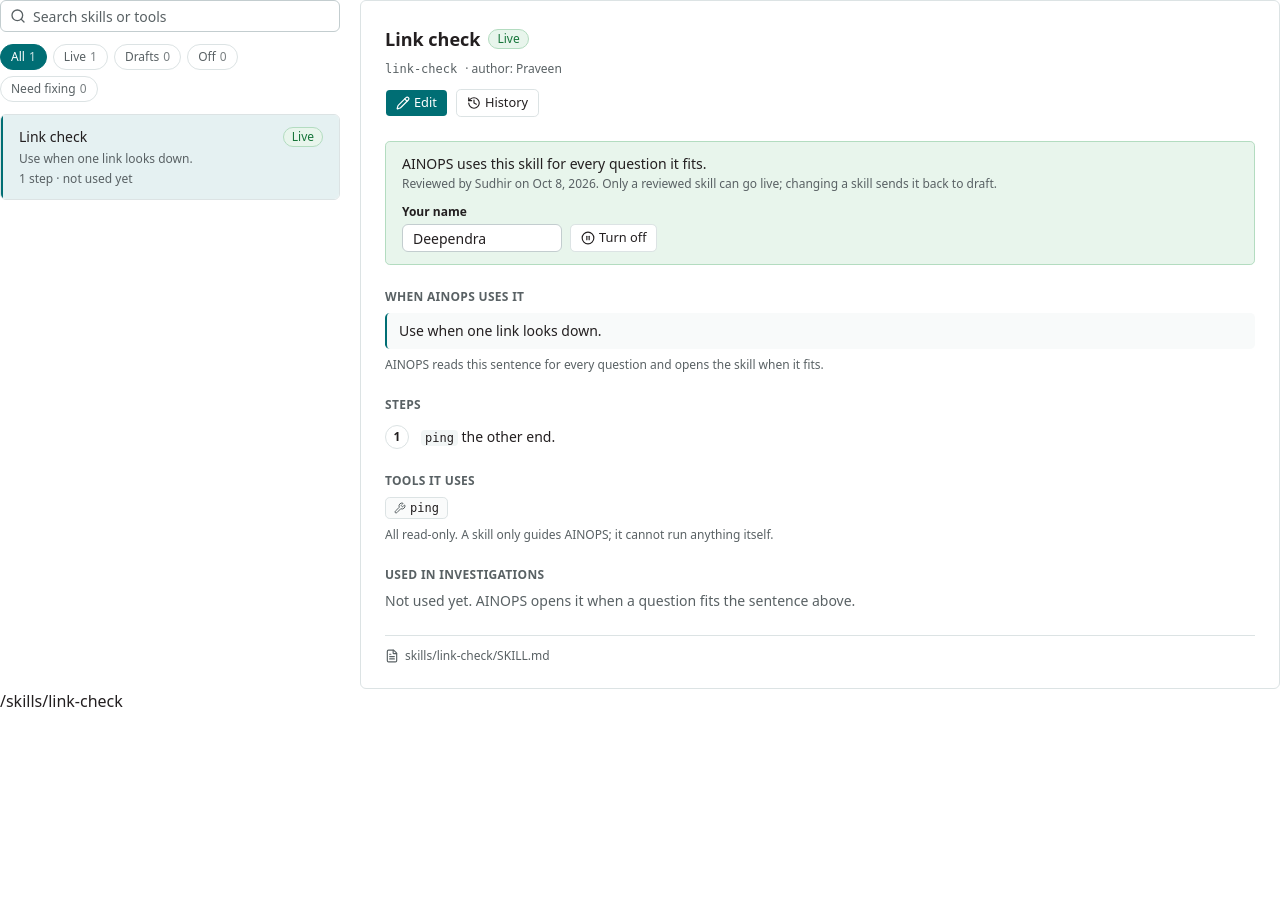
a skill’s status on the Skills page › History can restore an earlier version, saying it becomes a draft
What coordinates should you click on to do the following:
click the button "History"
I would click on:
 (497, 103)
Its box is [456,89,539,117].
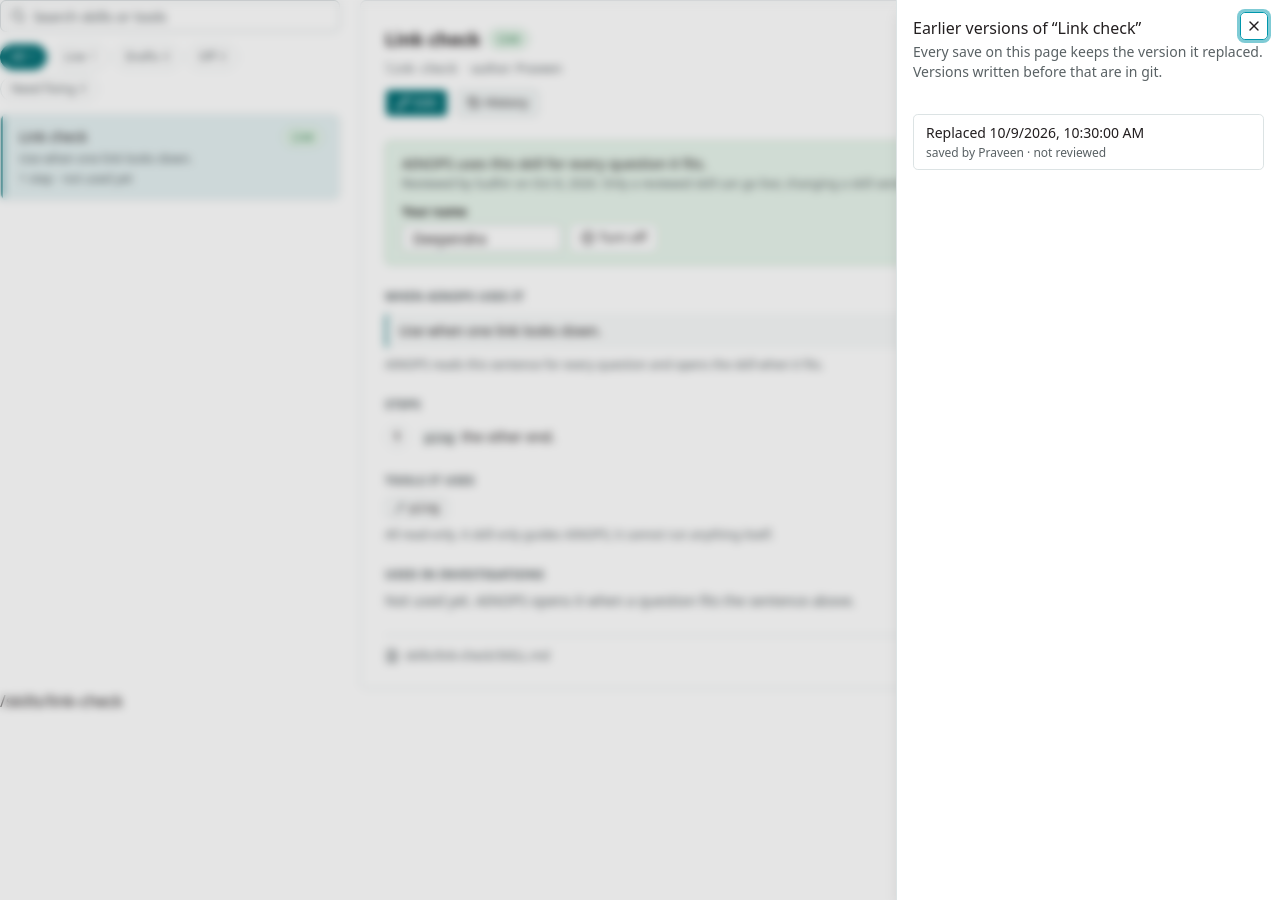
What coordinates should you click on to do the following:
click the button that starts with "Replaced"
I would click on:
 (1088, 142)
Its box is [914,115,1263,169].
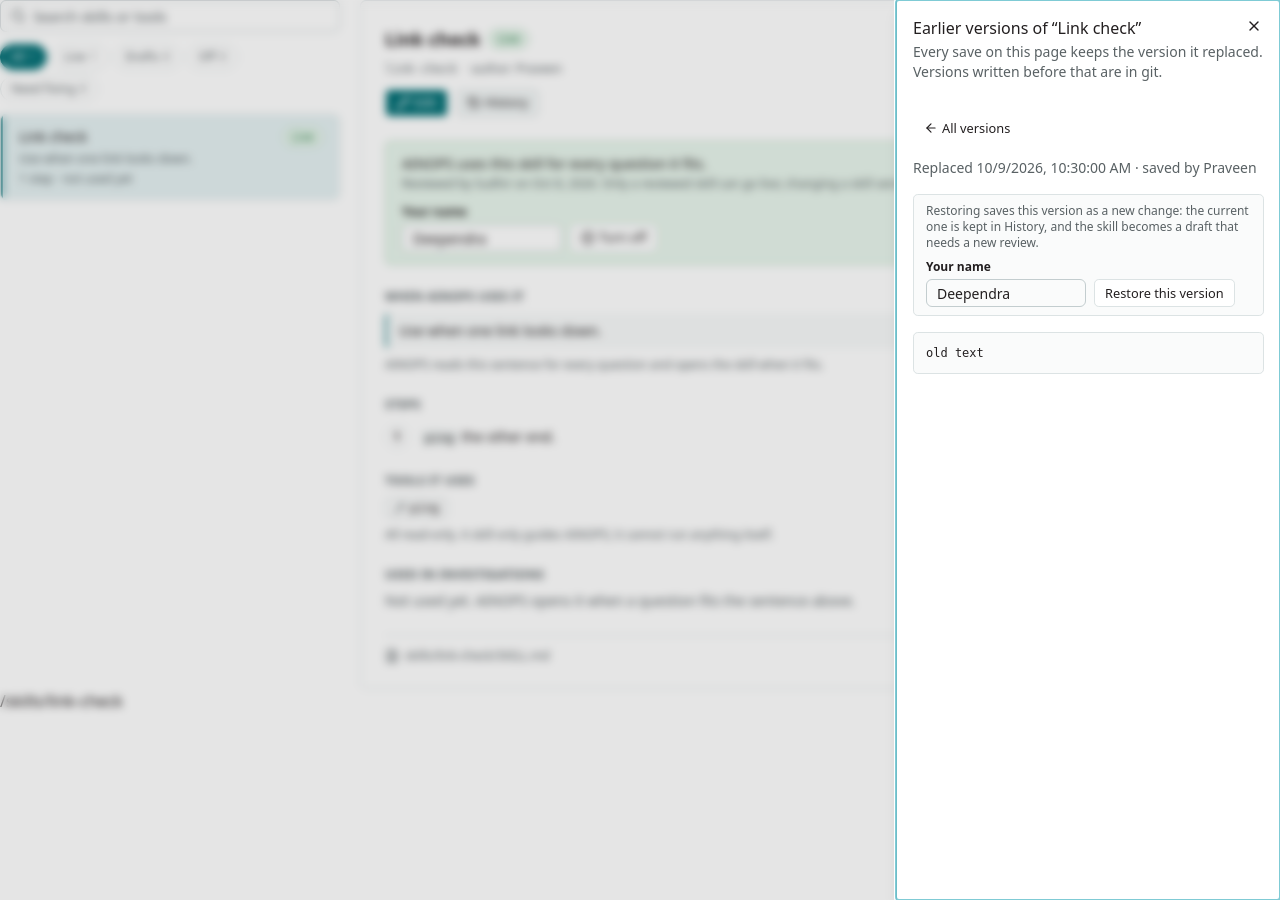
Check: the text "becomes a draft that needs a new review" is shown, box [926,202,1249,251]
What coordinates should you click on to do the following:
click the button "Restore this version"
I would click on:
 (1164, 293)
Its box is [1094,279,1235,307].
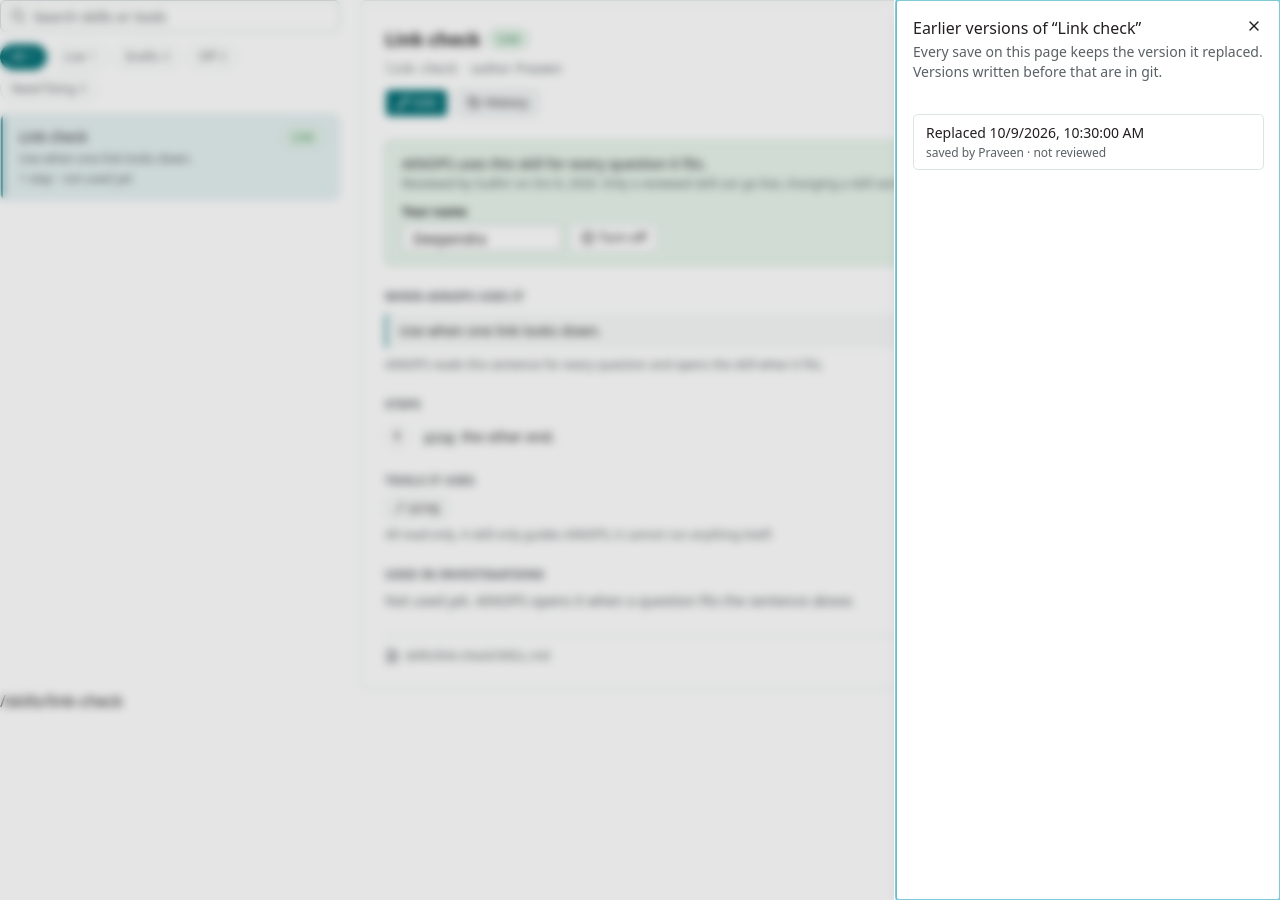
Check: the list named "Earlier versions" is shown, box [913,114,1264,170]
